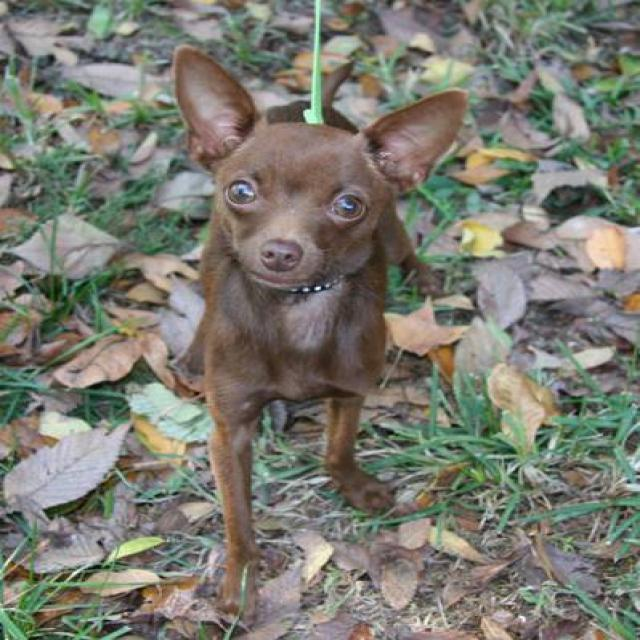dogs: (170, 27, 464, 626)
